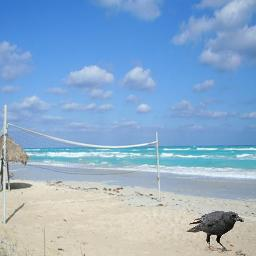Crow: (186, 211, 244, 251)
